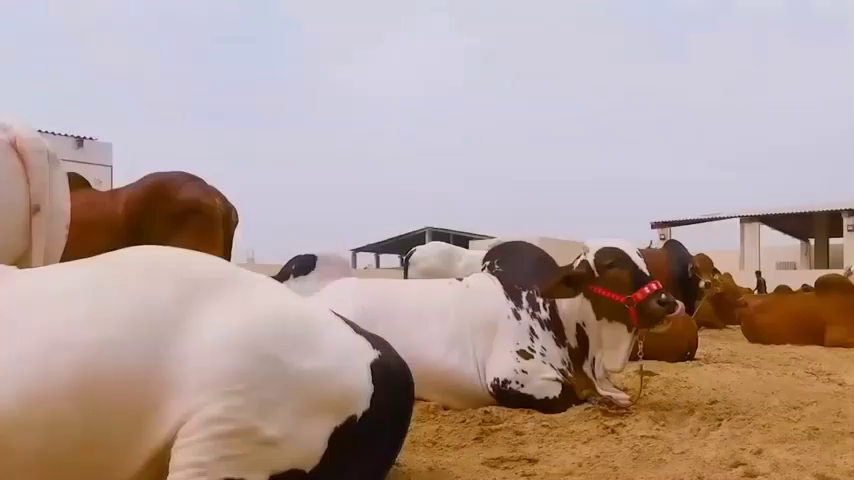bo: (4, 250, 414, 480), (285, 240, 687, 423), (68, 153, 237, 270), (475, 223, 712, 294), (1, 113, 74, 270), (733, 280, 845, 362), (629, 294, 707, 360), (679, 247, 724, 295)
